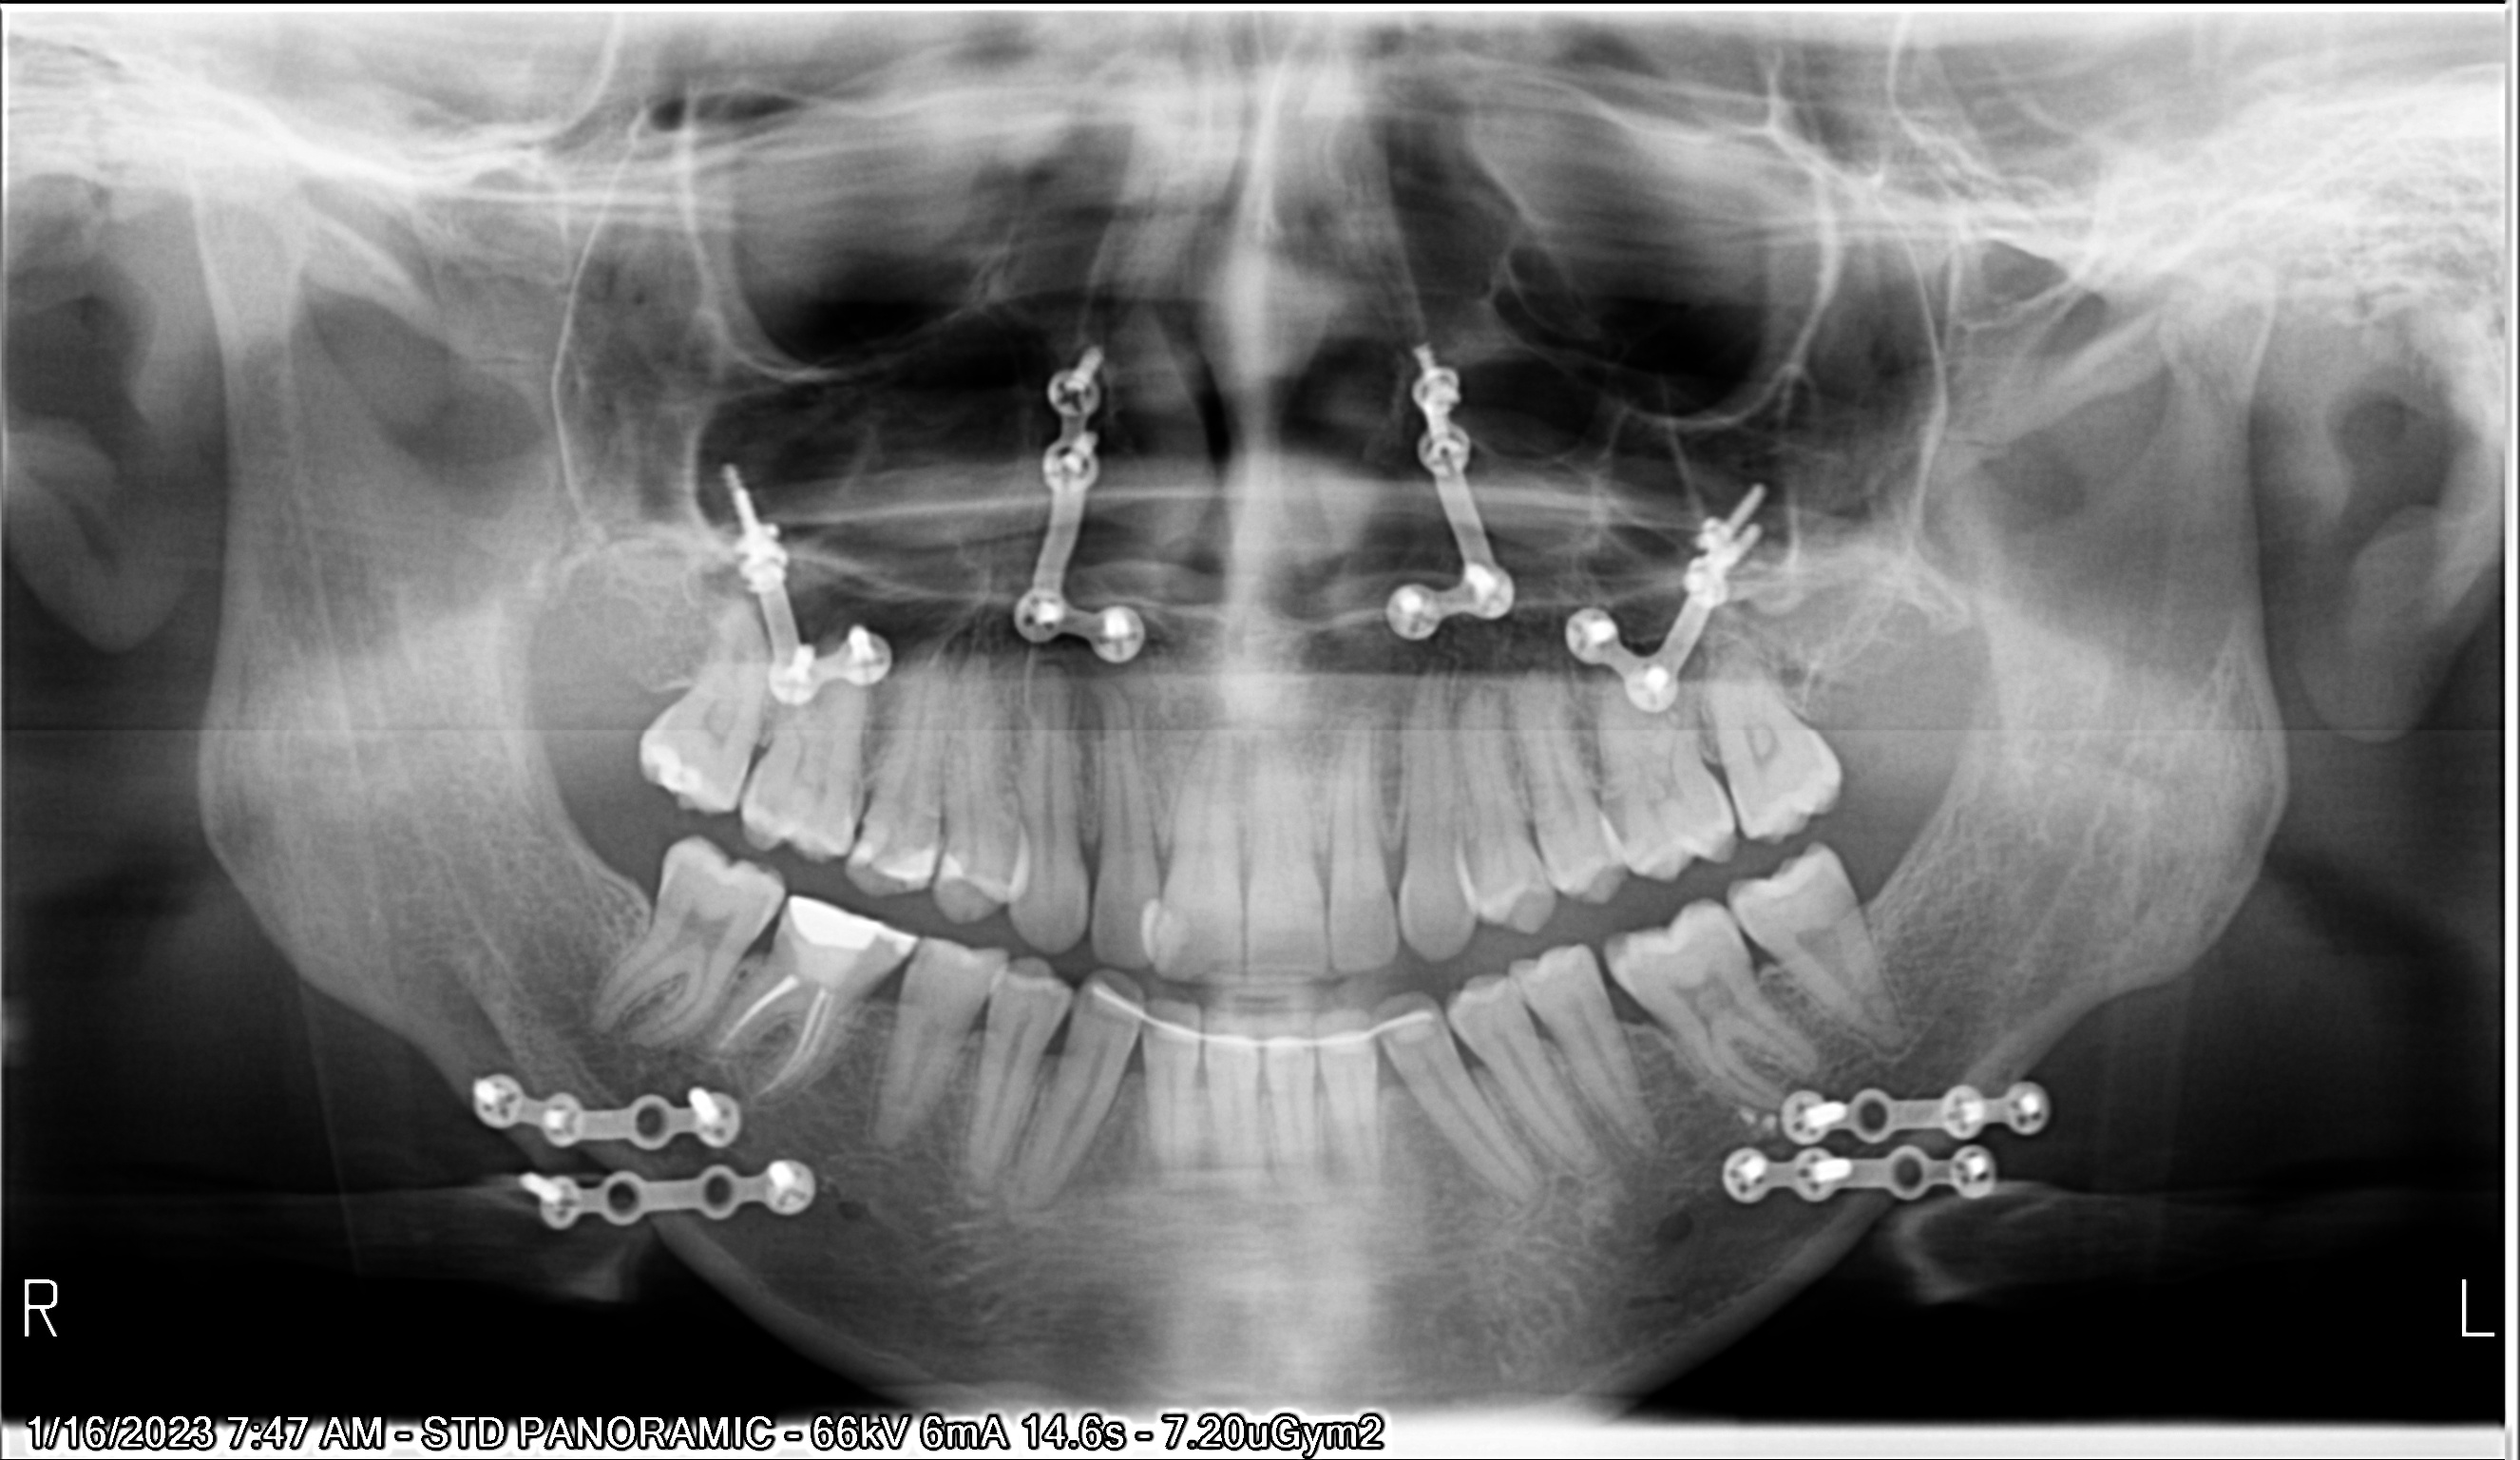CAR: (839, 784, 894, 850)
END: (672, 973, 854, 1086)
OBT: (771, 902, 955, 1005), (639, 720, 729, 812), (1151, 885, 1226, 985), (1113, 879, 1176, 973), (882, 812, 941, 900), (926, 843, 1002, 906), (844, 829, 884, 895)
ORD: (1068, 959, 1454, 1078)
SRD: (978, 332, 1219, 681), (1336, 332, 1544, 669), (1551, 454, 1801, 733), (716, 386, 894, 733), (1704, 1046, 2131, 1175), (491, 1130, 825, 1257), (448, 1052, 764, 1178), (1695, 1130, 2034, 1241)
